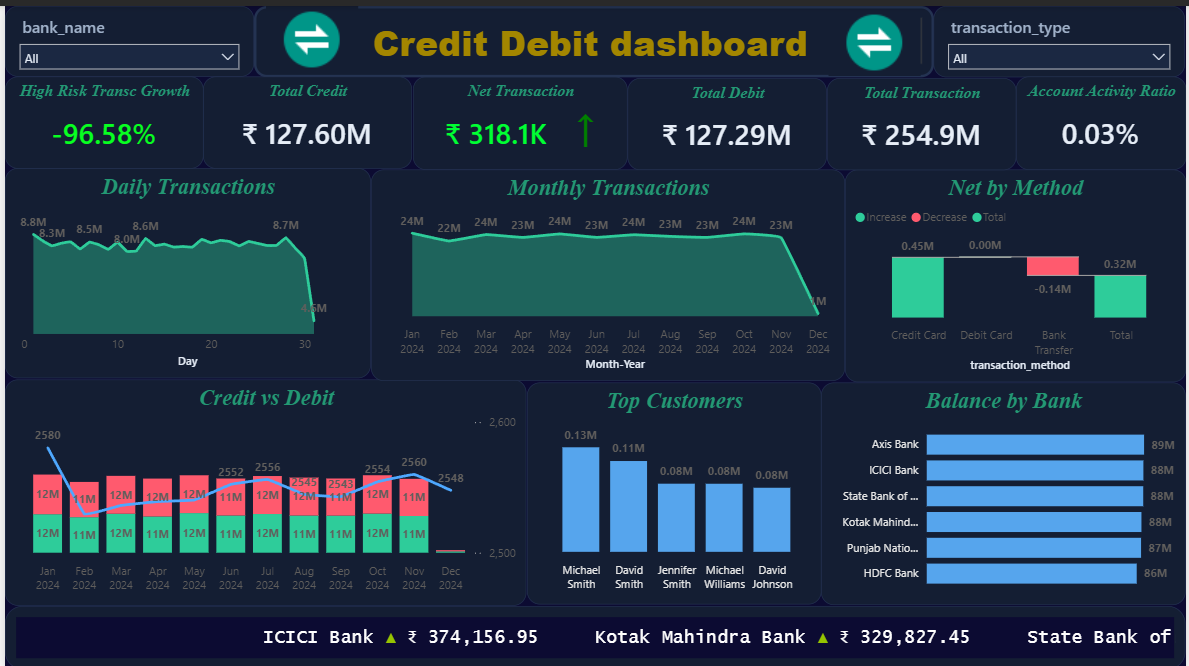

This screenshot's page, from the dashboard's own definition file:
{"tool":"powerbi","page":{"name":"Banking & Loan Performance Dashboard","canvas":[1280,720],"ordinal":5},"visuals":[{"type":"cardVisual","title":"Net Transaction","fields":{"Data":["Calendar.Net Cash Flow"]},"box":[441.8,76.5,232.7,101],"z":0},{"type":"cardVisual","fields":{"Data":["Calendar.Cash Flow Arrow"]},"box":[586.3,84.3,88.3,90.8],"z":1000},{"type":"cardVisual","title":"Total  Debit","fields":{"Data":["banking_analytics_project2 debit_credit_transactions.Total Debit Amount"]},"box":[674.5,77.6,216.3,100],"z":2000},{"type":"clusteredColumnChart","title":"Top Customers","fields":{"Category":["banking_analytics_project2 debit_credit_transactions.customer_name"],"Y":["Sum(banking_analytics_project2 debit_credit_transactions.amount)"]},"box":[565.7,408.6,319,241],"z":3000},{"type":"lineStackedColumnComboChart","title":"Credit vs Debit","fields":{"Category":["Calendar.Month-Year"],"Y":["banking_analytics_project2 debit_credit_transactions.Total Credit Amount","banking_analytics_project2 debit_credit_transactions.Total Debit Amount"],"Y2":["Avg(banking_analytics_project2 debit_credit_transactions.amount)"]},"box":[0,404.7,565.5,245.2],"z":4000},{"type":"waterfallChart","title":"Net by Method","fields":{"Category":["banking_analytics_project2 debit_credit_transactions.transaction_method"],"Y":["banking_analytics_project2 debit_credit_transactions.Net Transaction Amount"]},"box":[910.6,177.7,369.7,230.9],"z":5000},{"type":"barChart","title":"Balance by Bank","fields":{"Category":["banking_analytics_project2 debit_credit_transactions.bank_name"],"Y":["Sum(banking_analytics_project2 debit_credit_transactions.balance)"]},"box":[884.6,408.6,395.6,241.3],"z":6000},{"type":"textbox","box":[269.9,0,737.4,77.3],"z":7000},{"type":"slicer","fields":{"Values":["banking_analytics_project2 debit_credit_transactions.bank_name"]},"box":[0,0,269.8,76.5],"z":8000},{"type":"slicer","fields":{"Values":["banking_analytics_project2 debit_credit_transactions.transaction_type"]},"box":[1007.1,0,272.4,77.6],"z":9000},{"type":"lineChart","title":"Monthly Transactions","fields":{"Category":["Calendar.Month-Year"],"Y":["Sum(banking_analytics_project2 debit_credit_transactions.amount)"]},"box":[396.9,177.7,514.1,229.4],"z":10000},{"type":"lineChart","title":"Daily Transactions","fields":{"Category":["Calendar.Date.Variation.Date Hierarchy.Day"],"Y":["Sum(banking_analytics_project2 debit_credit_transactions.amount)"]},"box":[0,176.4,396.9,228.3],"z":11000},{"type":"ScrollingTextVisual1448795304508","fields":{"Category":["banking_analytics_project2 debit_credit_transactions.bank_name"],"Measure Deviation":["banking_analytics_project2 debit_credit_transactions.Net Transaction Amount"]},"box":[0,650.3,1279.8,68.7],"z":12000},{"type":"cardVisual","title":"Total Transaction","fields":{"Data":["banking_analytics_project2 debit_credit_transactions.Total Transaction Amount by Branch"]},"box":[890.8,77.6,205.1,100],"z":13000},{"type":"cardVisual","title":"Account Activity Ratio","fields":{"Data":["banking_analytics_project2 debit_credit_transactions.Account Activity Ratio"]},"box":[1095.9,76.5,184.7,101],"z":14000},{"type":"cardVisual","title":"Total  Credit","fields":{"Data":["banking_analytics_project2 debit_credit_transactions.Total Credit Amount"]},"box":[215.3,76.5,226.5,100],"z":15000},{"type":"cardVisual","title":"High Risk Transc Growth","fields":{"Data":["Calendar.High-Risk Transaction Growth"]},"box":[0,76.5,215.3,100],"z":16000},{"type":"image","box":[282.8,0,99.9,72.6],"z":17000},{"type":"image","box":[893.6,2.7,99.9,72.6],"z":18000}]}

Visuals, with their boxes in screenshot pixels (x1, y1, x2, y2), scaled from the page's 1280x720 canvas onto the 1189x666 screenshot:
"Net Transaction" cardVisual: 410,71,627,164
cardVisual - Calendar.Cash Flow Arrow: 545,78,627,162
"Total  Debit" cardVisual: 627,72,827,164
"Top Customers" clusteredColumnChart: 525,378,822,601
"Credit vs Debit" lineStackedColumnComboChart: 0,374,525,601
"Net by Method" waterfallChart: 846,164,1188,378
"Balance by Bank" barChart: 822,378,1188,601
textbox: 251,0,936,72
slicer - banking_analytics_project2 debit_credit_transactions.bank_name: 0,0,251,71
slicer - banking_analytics_project2 debit_credit_transactions.transaction_type: 936,0,1188,72
"Monthly Transactions" lineChart: 369,164,846,377
"Daily Transactions" lineChart: 0,163,369,374
ScrollingTextVisual1448795304508 - banking_analytics_project2 debit_credit_transactions.bank_name x banking_analytics_project2 debit_credit_transactions.Net Transaction Amount: 0,602,1188,665
"Total Transaction" cardVisual: 827,72,1018,164
"Account Activity Ratio" cardVisual: 1018,71,1188,164
"Total  Credit" cardVisual: 200,71,410,163
"High Risk Transc Growth" cardVisual: 0,71,200,163
image: 263,0,355,67
image: 830,2,923,70
